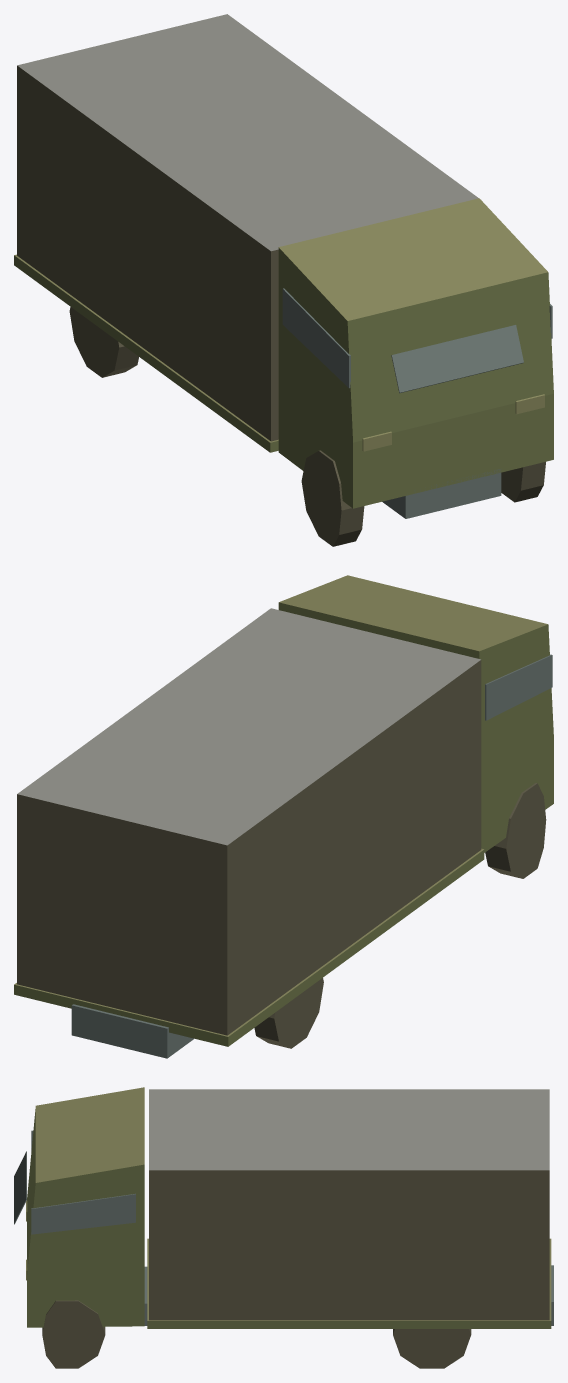
Rendered from SM_CocheCivil_Camion_v3_LOD0.fbx.
3 renders of one model, top to bottom at view 1: azimuth 30°, elevation 25°; view 2: azimuth 150°, elevation 25°; view 3: azimuth 270°, elevation 25°, orthographic. The views are drawn at different scales.
Parts seen in each view (by area): view 1: SM_coche_civil_v23_LOD0; view 2: SM_coche_civil_v23_LOD0; view 3: SM_coche_civil_v23_LOD0.
Boxes of the visible parts, x1,y1,x2,y2 form: SM_coche_civil_v23_LOD0: [14, 14, 553, 546]; SM_coche_civil_v23_LOD0: [14, 575, 553, 1058]; SM_coche_civil_v23_LOD0: [14, 1087, 553, 1368].
Size of the model in its own units: 2.24 by 2.58 by 6.2.
